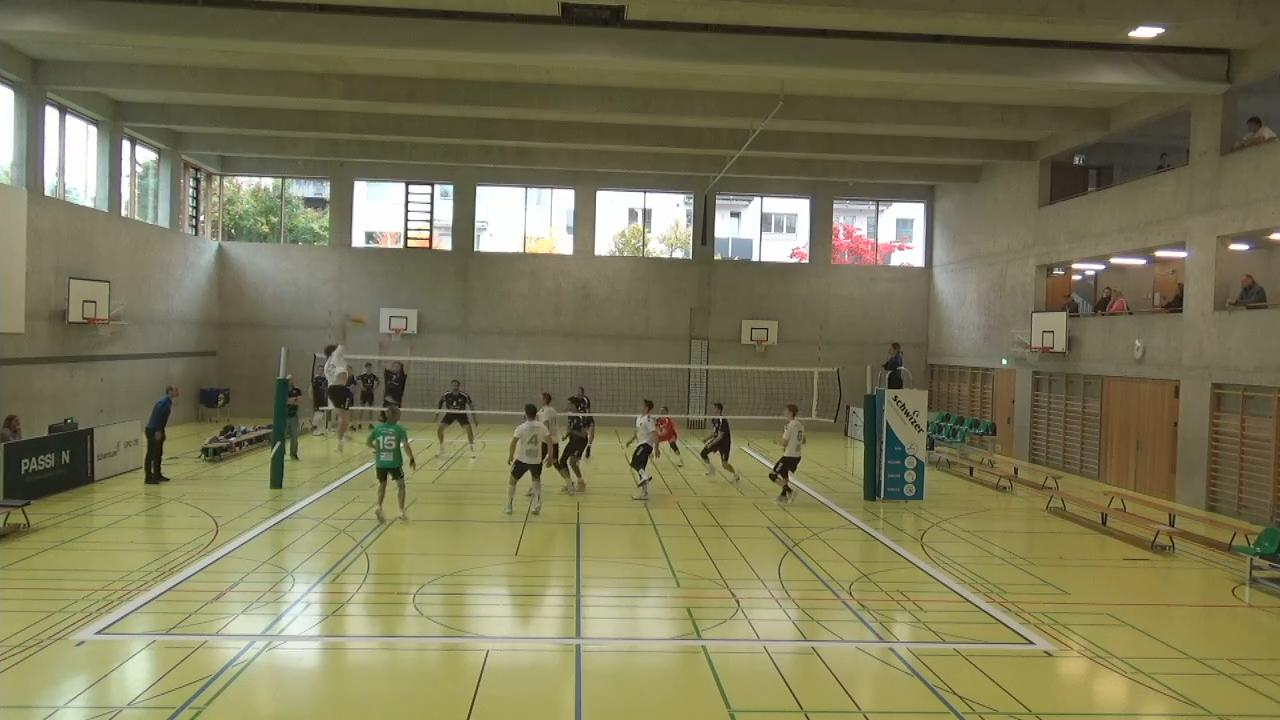Attack: (305, 327, 363, 459)
Block: (379, 325, 413, 430)
Player: (370, 404, 417, 523), (504, 402, 547, 514), (533, 388, 573, 494), (433, 380, 479, 462), (548, 396, 586, 495), (697, 402, 742, 483), (770, 403, 804, 502), (626, 399, 659, 500), (568, 386, 600, 457), (653, 400, 684, 469)
ball: (347, 311, 367, 327)
